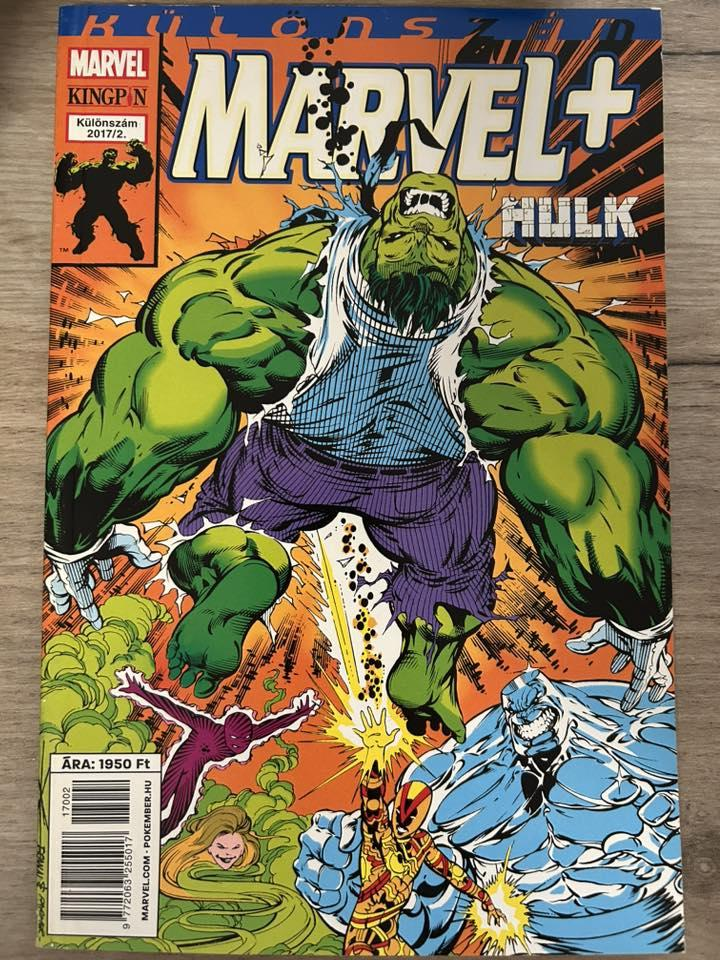comic: (38, 4, 682, 955)
